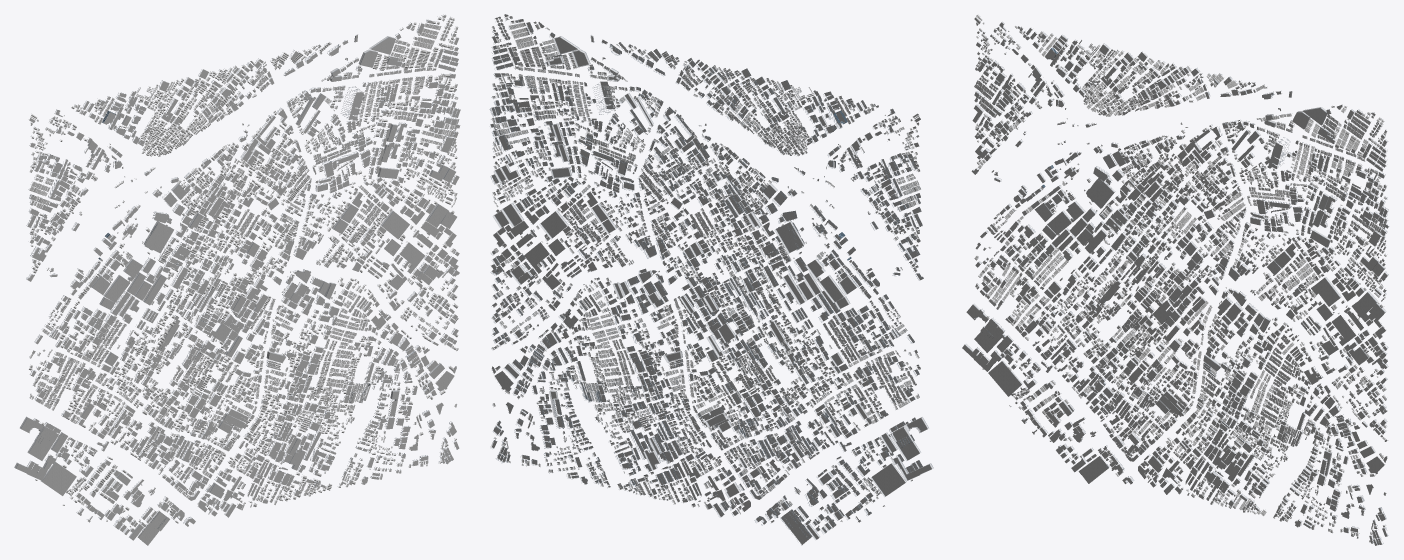
The model's file is buildings_4_4.obj.
The picture shows the model from 3 angles, left to right: view 1: azimuth 30°, elevation 25°; view 2: azimuth 150°, elevation 25°; view 3: azimuth 330°, elevation 25°; orthographic projection. The views are drawn at different scales.
Bounding box in the file's own units: 2080 × 2074 × 72.01.
Materials: 6 (6 with a texture image).
